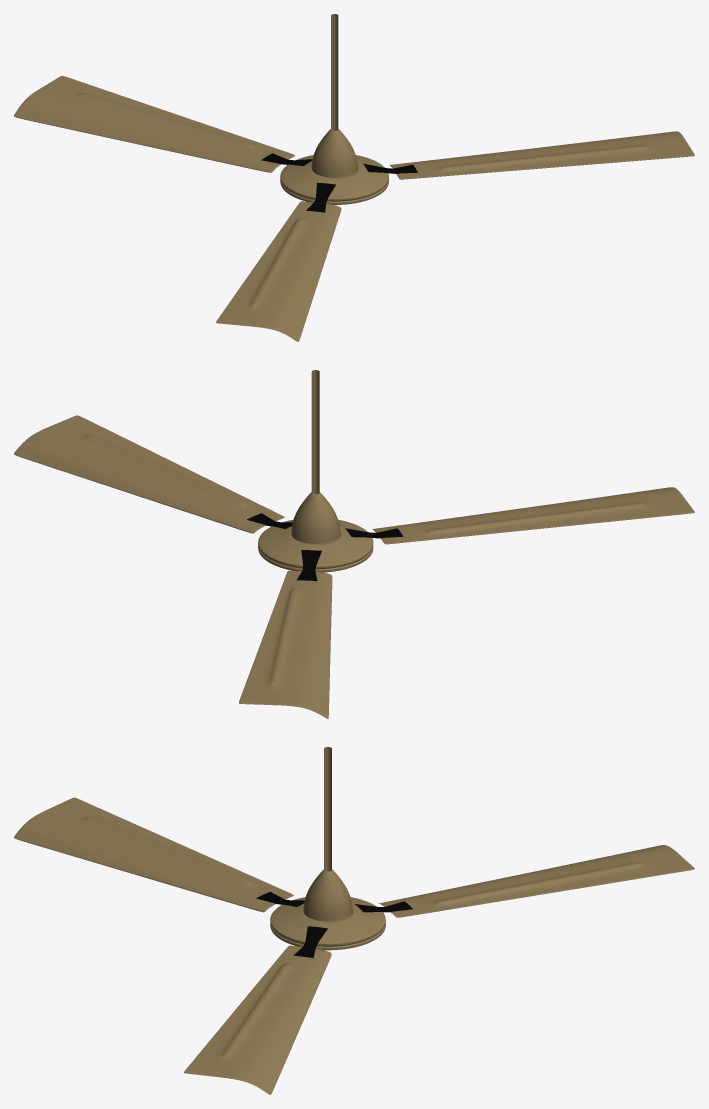
The model's file is Project Name.gltf.
3 views of the same model, one above another, from view 1: azimuth 30°, elevation 25°; view 2: azimuth 150°, elevation 25°; view 3: azimuth 270°, elevation 25° (orthographic). The views are drawn at different scales.
Parts seen in each view (by area): view 1: Plane.002_Plane.003, Plane.004_Plane.005, Plane_Plane.001, Buffer Object, Circle.001; view 2: Plane_Plane.001, Plane.002_Plane.003, Plane.004_Plane.005, Buffer Object, Circle.001; view 3: Plane.004_Plane.005, Plane_Plane.001, Plane.002_Plane.003, Buffer Object, Circle.001.
Boxes of the visible parts, left/top/right/bottom form: Plane.002_Plane.003: left=14, top=76, right=295, bottom=172; Plane.004_Plane.005: left=216, top=201, right=341, bottom=341; Plane_Plane.001: left=390, top=131, right=694, bottom=179; Buffer Object: left=280, top=155, right=388, bottom=204; Circle.001: left=311, top=14, right=357, bottom=177; Plane_Plane.001: left=14, top=415, right=284, bottom=533; Plane.002_Plane.003: left=239, top=570, right=332, bottom=718; Plane.004_Plane.005: left=372, top=487, right=694, bottom=544; Buffer Object: left=258, top=519, right=373, bottom=572; Circle.001: left=291, top=370, right=340, bottom=543; Plane.004_Plane.005: left=14, top=797, right=293, bottom=912; Plane_Plane.001: left=184, top=945, right=331, bottom=1094; Plane.002_Plane.003: left=379, top=845, right=694, bottom=917; Buffer Object: left=270, top=897, right=385, bottom=950; Circle.001: left=303, top=747, right=352, bottom=921.
Bounding box in the file's own units: 0.0147 × 0.00446 × 0.0149.
